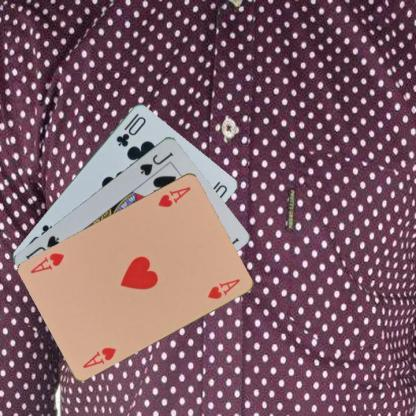10c: (113, 110, 148, 148)
Ah: (80, 344, 118, 369), (155, 184, 192, 209)
Js: (137, 149, 174, 177)
